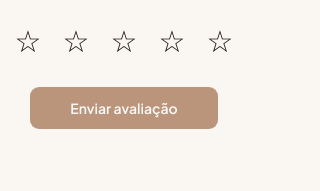
Test case: RatingForm › action error is shown inline
Click the button named "2 estrelas": (76, 40) [54,18,98,62]
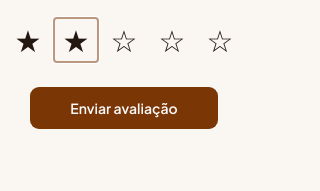
Click the button "Enviar avaliação": (124, 108) [29,86,219,130]
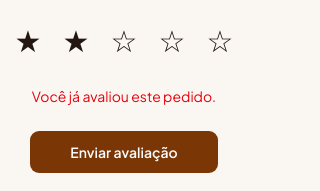
Expected: the button "Enviar avaliação" is shown, [29,130,219,174]
Now the text "Você já avaliou este pedido." is shown, box [32,86,216,106]
